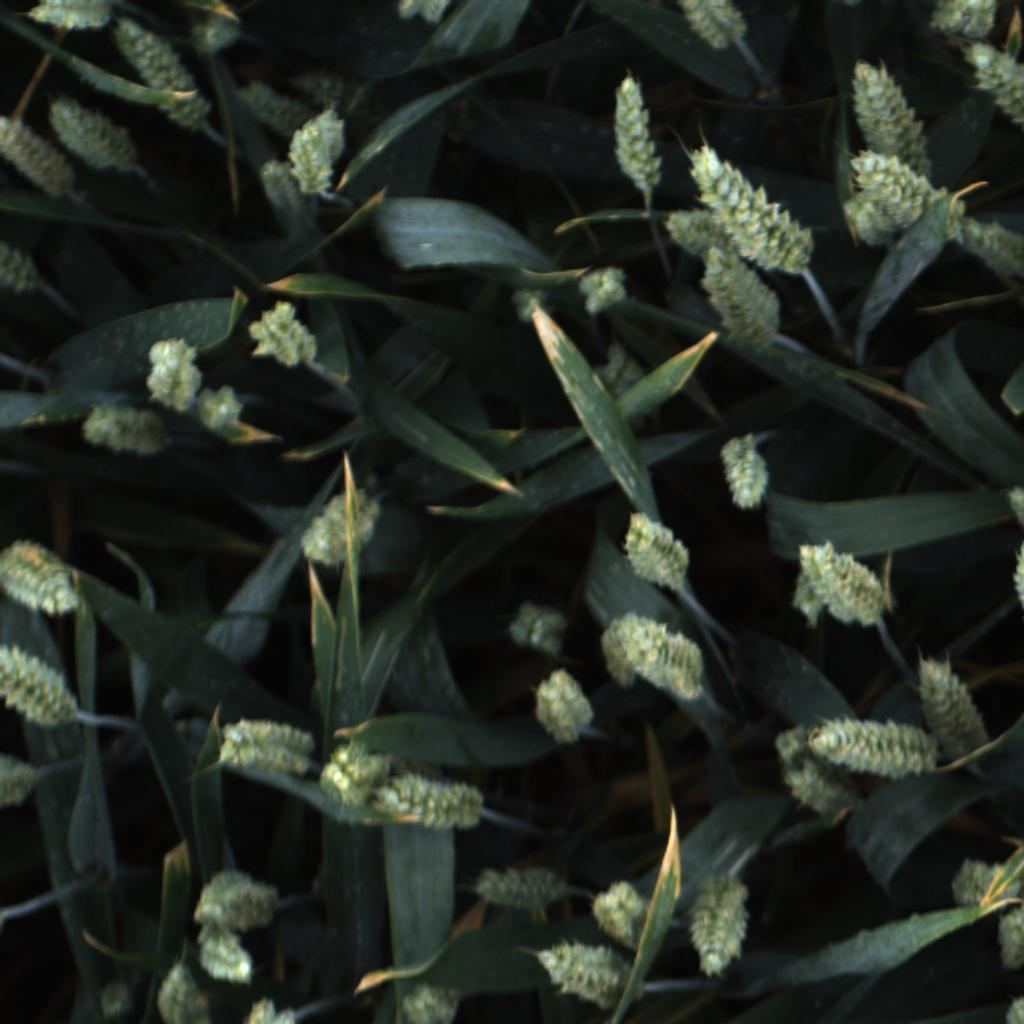0-0: (683, 134, 824, 278), (109, 14, 225, 136), (844, 55, 946, 188), (913, 654, 993, 773), (290, 480, 395, 568), (701, 244, 783, 356), (794, 532, 889, 627), (617, 612, 711, 705), (373, 765, 492, 835), (804, 715, 938, 776), (683, 878, 763, 978), (0, 639, 82, 735), (605, 70, 667, 194), (49, 92, 141, 175), (210, 710, 314, 781), (1, 113, 84, 200), (617, 507, 699, 593), (536, 936, 632, 1009), (846, 145, 948, 210), (936, 213, 1024, 286), (79, 397, 179, 461), (245, 292, 323, 372), (464, 860, 575, 916), (184, 871, 282, 933), (964, 40, 1024, 141), (841, 181, 927, 251), (283, 114, 346, 207), (945, 844, 1020, 922), (4, 542, 78, 621), (528, 669, 601, 748), (766, 712, 854, 777), (711, 435, 778, 513), (316, 740, 390, 810), (774, 765, 863, 822), (653, 204, 737, 264), (140, 330, 202, 409), (505, 596, 578, 660), (297, 65, 378, 119), (236, 67, 299, 135), (924, 0, 1008, 51), (679, 0, 754, 53), (196, 927, 263, 986), (591, 874, 651, 938), (599, 610, 646, 690), (501, 273, 562, 332), (156, 962, 214, 1024), (192, 378, 252, 436), (596, 343, 654, 403), (579, 256, 634, 318), (29, 0, 120, 36), (393, 980, 466, 1024), (0, 234, 46, 302), (787, 562, 831, 631), (986, 898, 1024, 977), (252, 160, 304, 216), (0, 749, 40, 813), (91, 978, 142, 1024), (189, 17, 242, 54), (239, 992, 299, 1023), (394, 0, 454, 30), (1008, 536, 1024, 611), (1007, 482, 1024, 525), (1000, 993, 1023, 1023)
